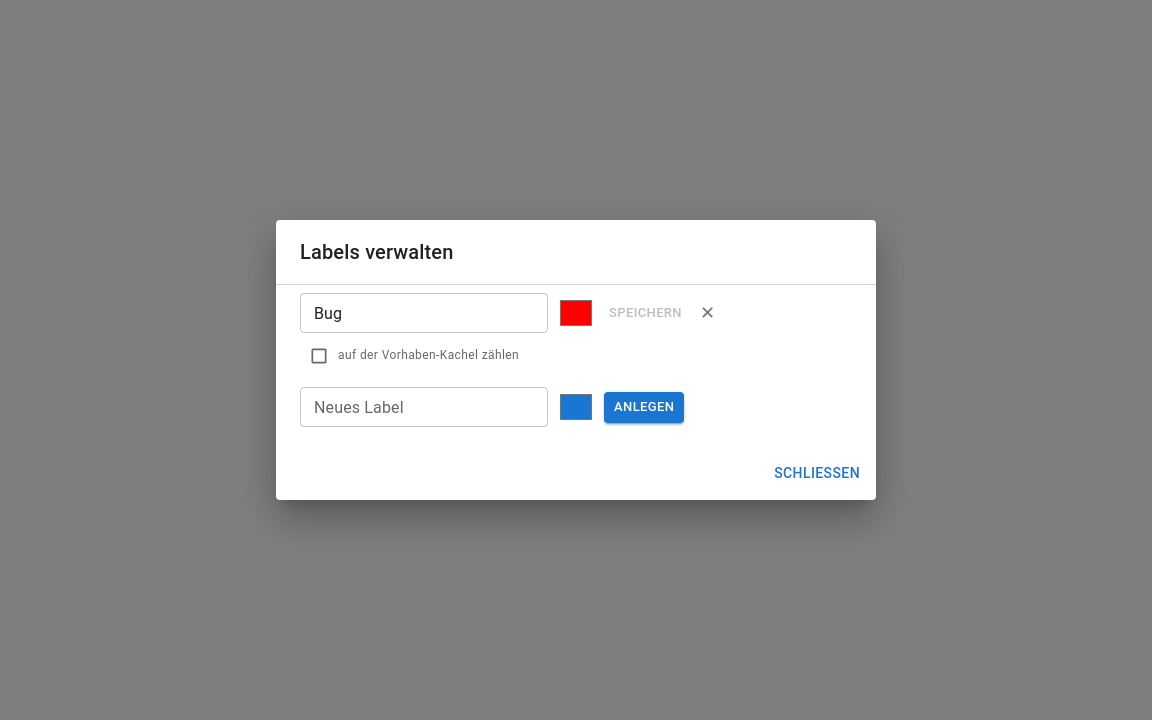
Test: LabelManagerDialog › save: meldet den Serverfehler als Toast
Replace the text in the field named "Label Bug" with "Defekt": (424, 313) [300, 293, 548, 333]
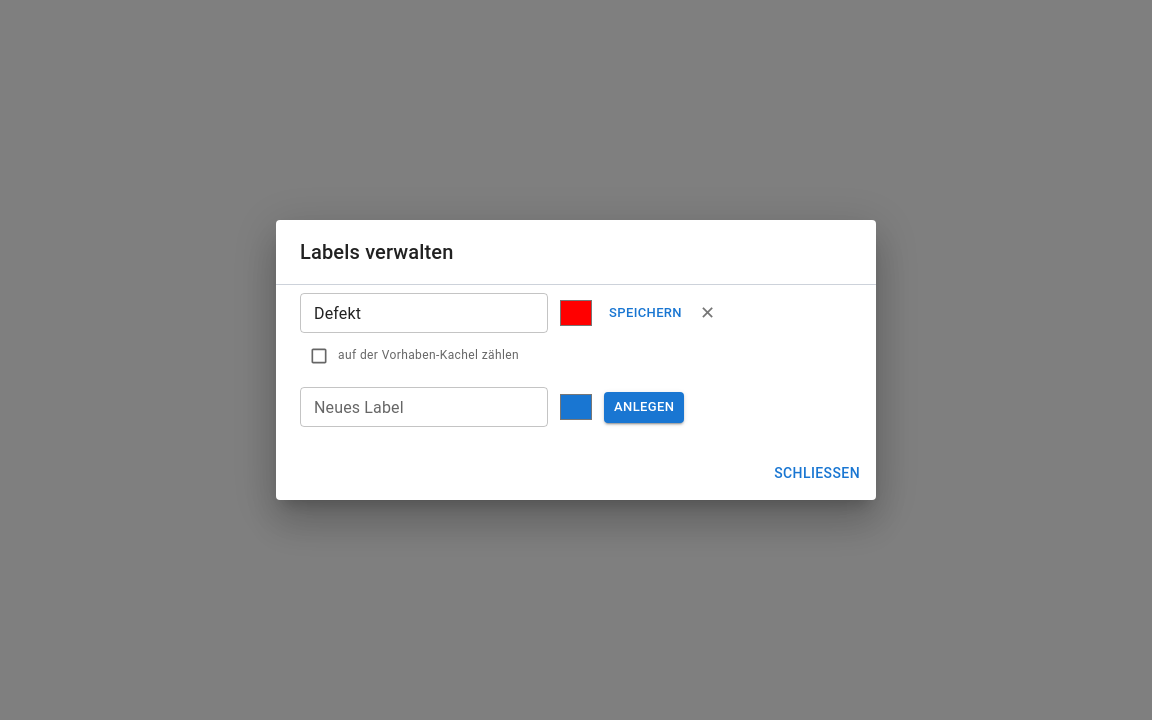
Click the button "Speichern": (646, 313) [604, 298, 687, 329]
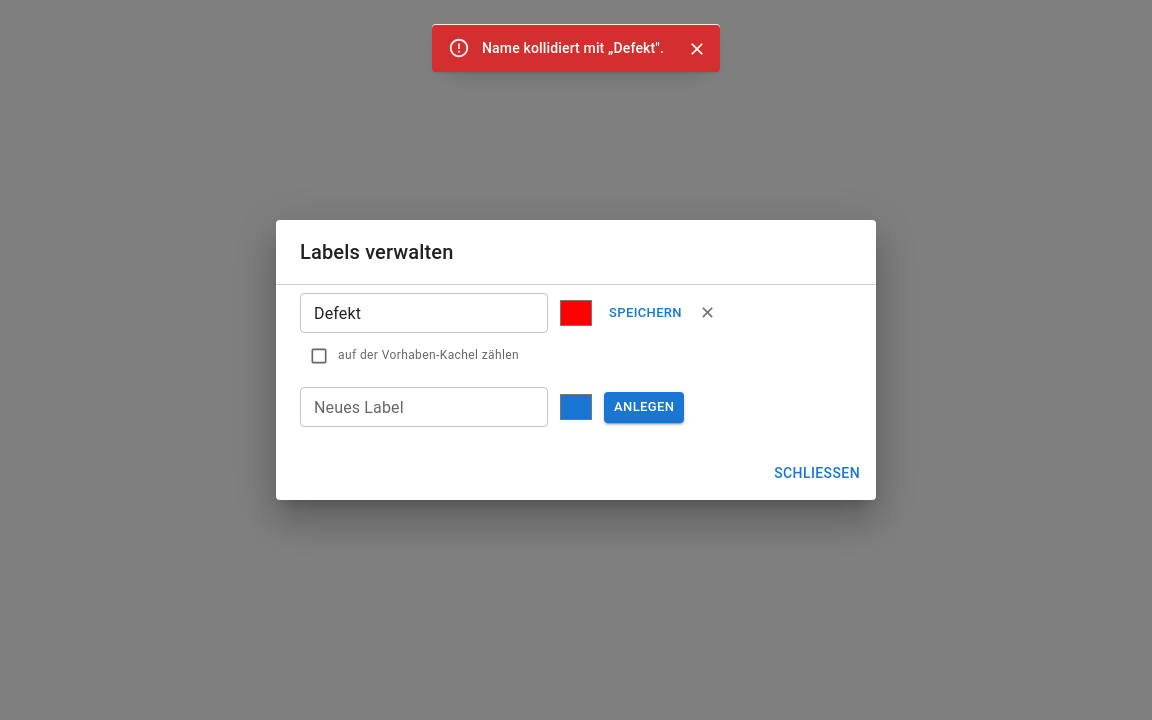
Expected: the message reads "Name kollidiert mit „Defekt\".", [482, 40, 664, 56]
